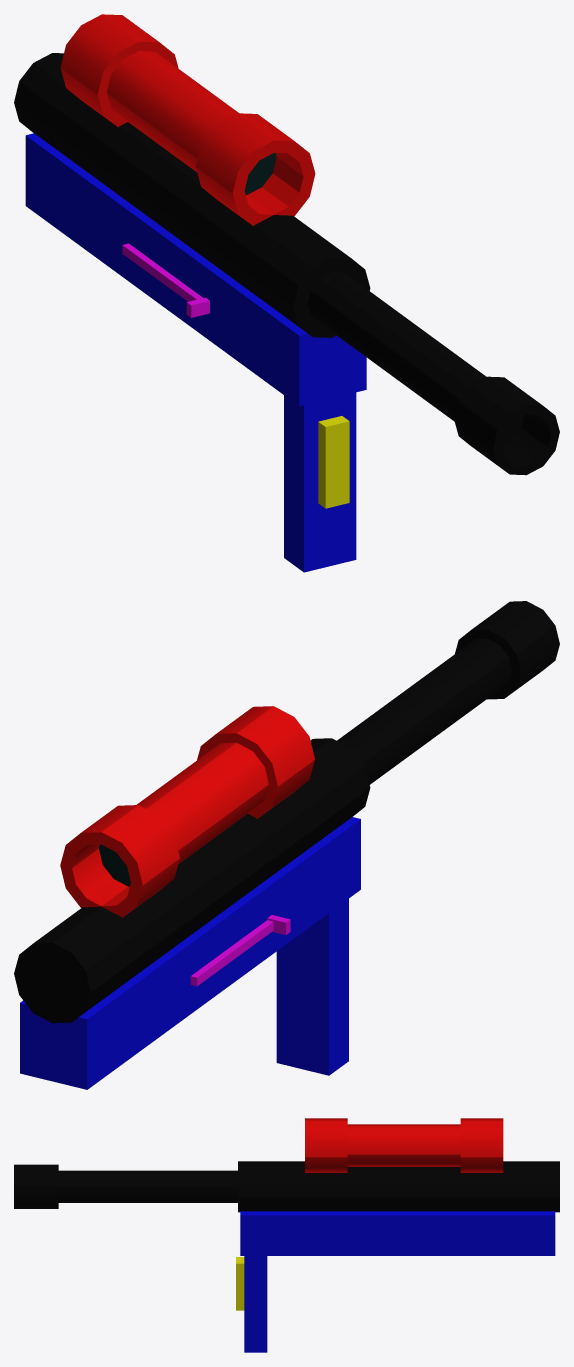
The model's file is Sniper_Weapon_Merged.fbx.
3 renders of one model, top to bottom at view 1: azimuth 30°, elevation 25°; view 2: azimuth 150°, elevation 25°; view 3: azimuth 270°, elevation 25°, orthographic. The views are drawn at different scales.
Parts seen in each view (by area): view 1: Sniper_Weapon_Merged; view 2: Sniper_Weapon_Merged; view 3: Sniper_Weapon_Merged.
Part boxes in pixels (bbox=[...]): Sniper_Weapon_Merged: bbox=[14, 14, 559, 572]; Sniper_Weapon_Merged: bbox=[14, 601, 559, 1089]; Sniper_Weapon_Merged: bbox=[14, 1118, 559, 1352].
Size of the model in its own units: 0.2364 by 0.9617 by 2.13.
